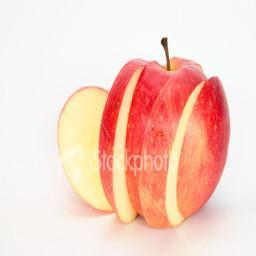apple: (95, 53, 230, 229)
